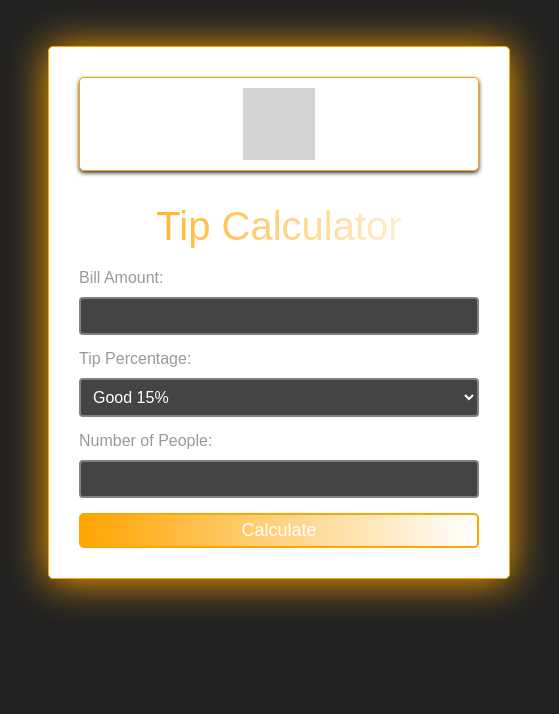
it: TipCalculator › 1. Calculates total amount and tip per person correctly
In the number field labelled "Bill Amount:": (279, 316) x1=79 y1=297 x2=479 y2=335, type "100"
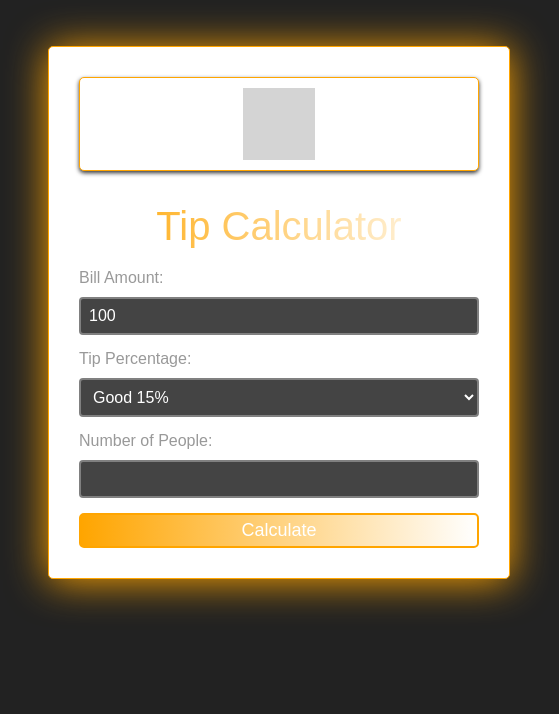
Select "Good 15%" in the dropdown labelled "Tip Percentage:": (279, 398) x1=79 y1=378 x2=479 y2=417
In the number field labelled "Number of People:": (279, 479) x1=79 y1=460 x2=479 y2=498, type "2"
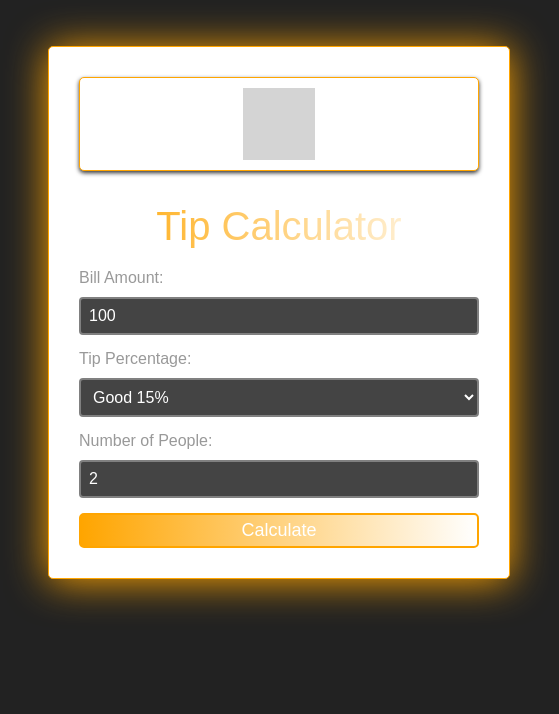
Click the button "Calculate": (279, 531) x1=79 y1=513 x2=479 y2=548
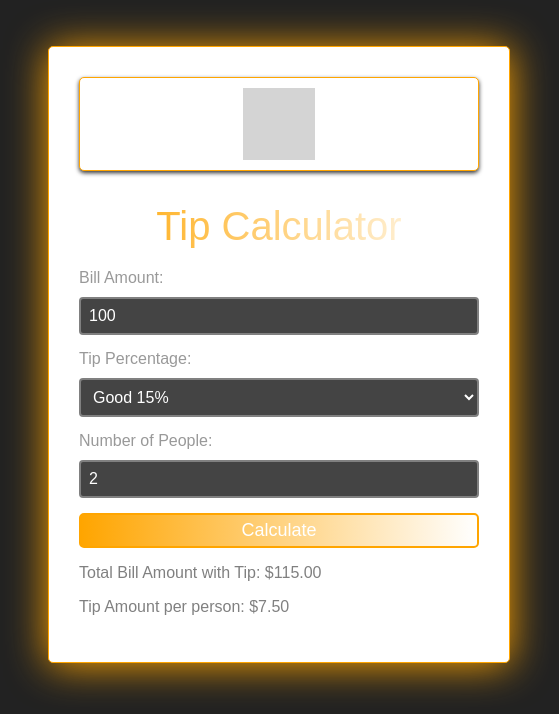
Expected: the text "Total Bill Amount with Tip: $115.00" is shown, x1=79 y1=564 x2=479 y2=582
Expected: the text "Tip Amount per person: $7.50" is shown, x1=79 y1=598 x2=479 y2=616
